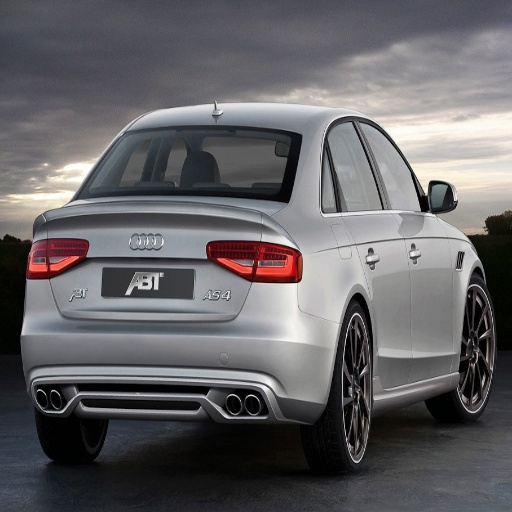_background_: (21, 280, 343, 426)
back_bumper: (81, 127, 303, 201)
back_left_light: (322, 116, 412, 389)
back_right_door: (252, 241, 302, 282)
front_left_light: (365, 119, 452, 377)
right_mirror: (44, 198, 237, 324)
tailgate: (161, 206, 276, 313), (43, 240, 149, 326)
trunk: (303, 303, 373, 471), (453, 284, 492, 420), (40, 422, 107, 461)
